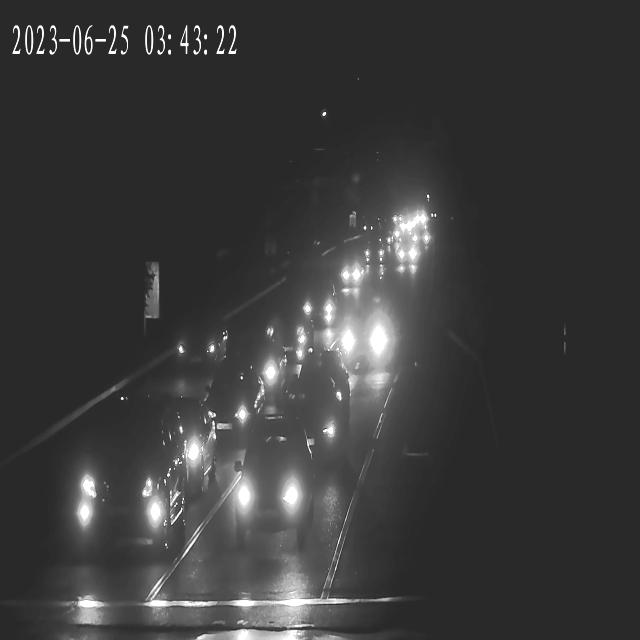Car: (65, 424, 178, 534), (125, 400, 224, 503), (231, 445, 313, 542), (287, 363, 346, 466), (197, 375, 265, 437), (332, 316, 393, 372), (230, 342, 286, 402), (176, 321, 232, 370), (259, 312, 316, 360), (295, 284, 340, 326), (338, 259, 370, 287), (363, 240, 389, 264), (395, 244, 419, 266)
